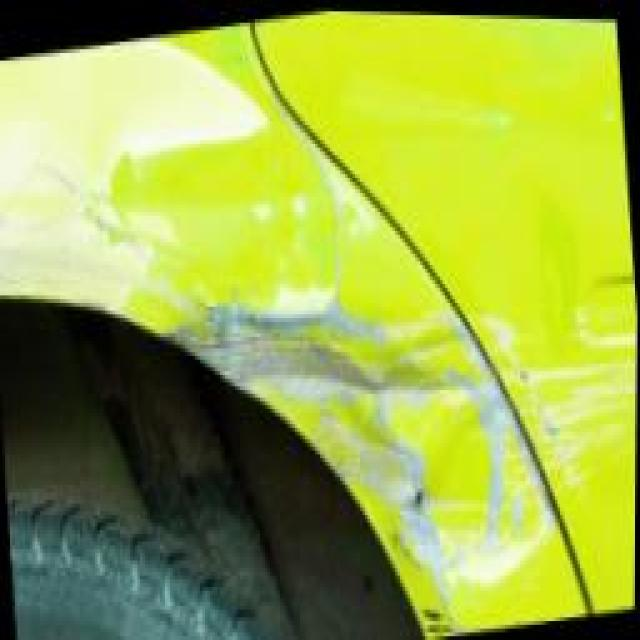Door: (500, 246, 637, 511)
Fender: (45, 64, 549, 639)
